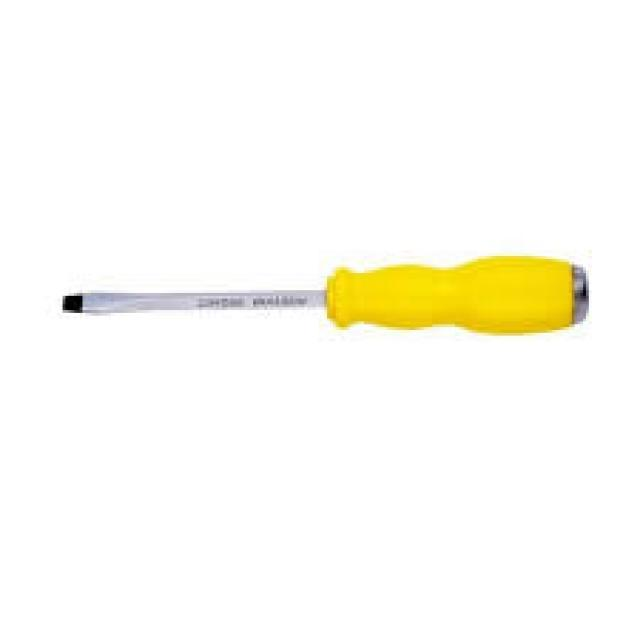screwdriver: (46, 255, 594, 338)
